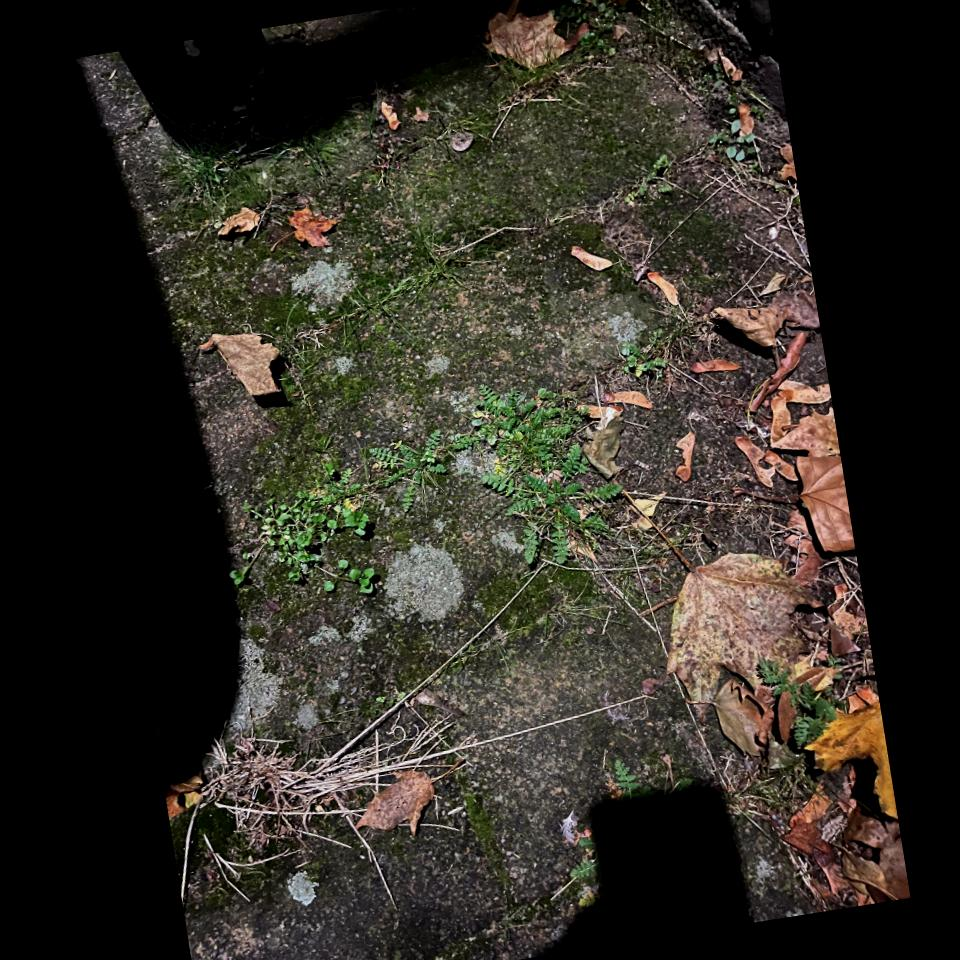weed: (230, 378, 615, 608)
